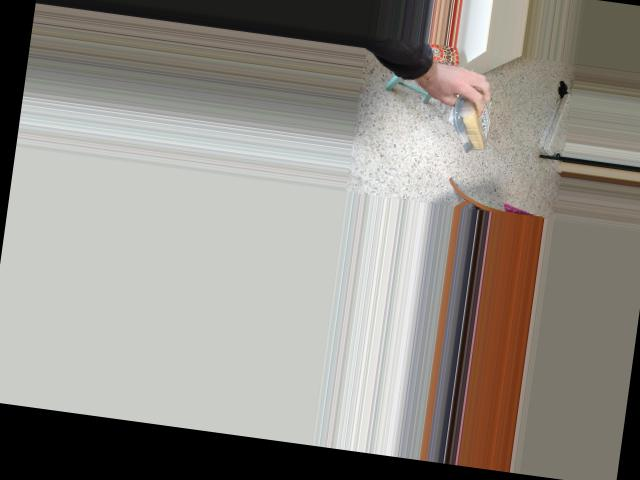cheese: (453, 85, 495, 155)
